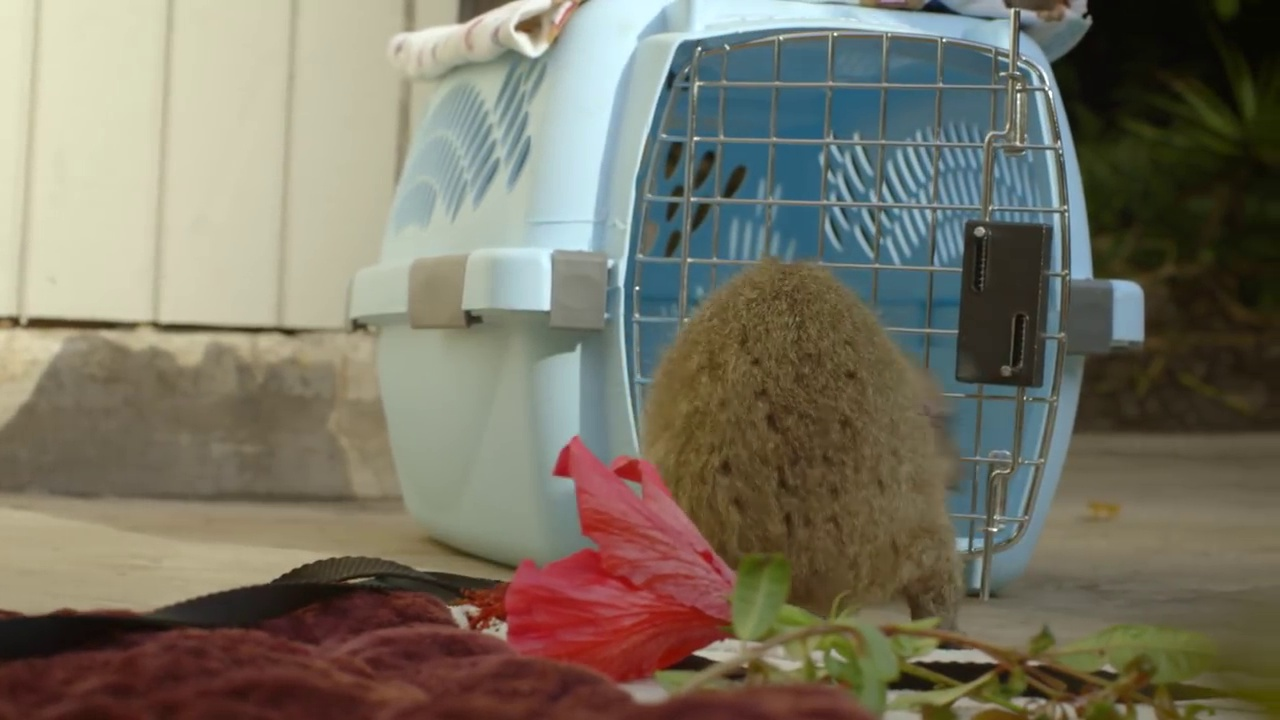Rock Hyrex: (617, 249, 979, 648)
